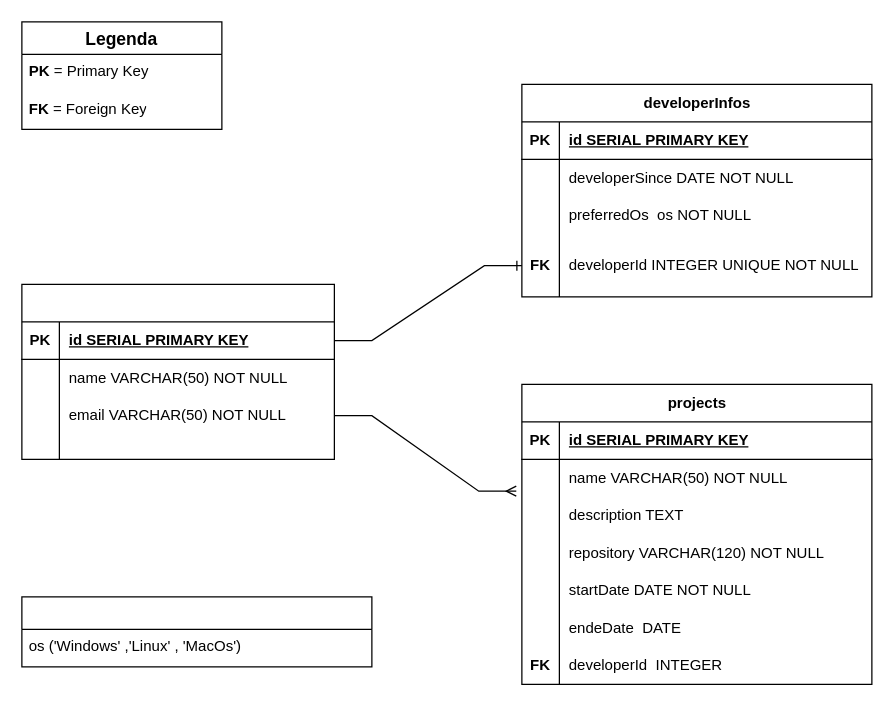
Some shapes in this 894 by 706 pixel diagram are drawn without their labels. Each missing label, with the box of its shape:
developers: (21, 283, 334, 459)
ENUM: (21, 596, 372, 667)
